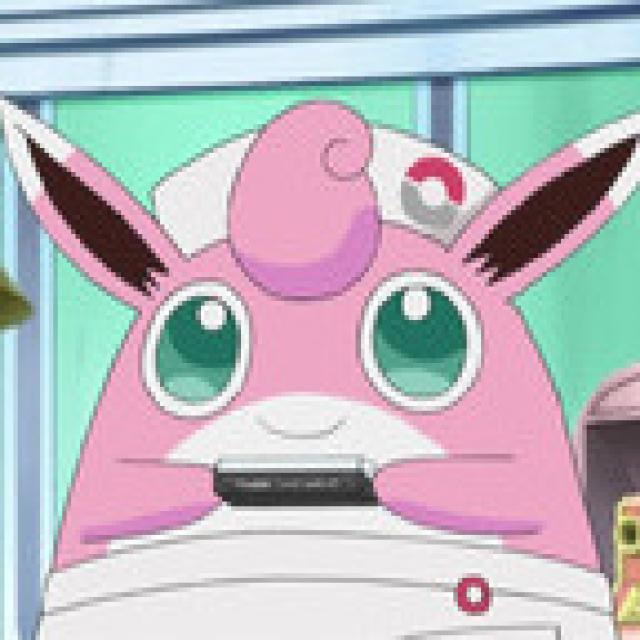Wigglytuff: (0, 54, 635, 640)
